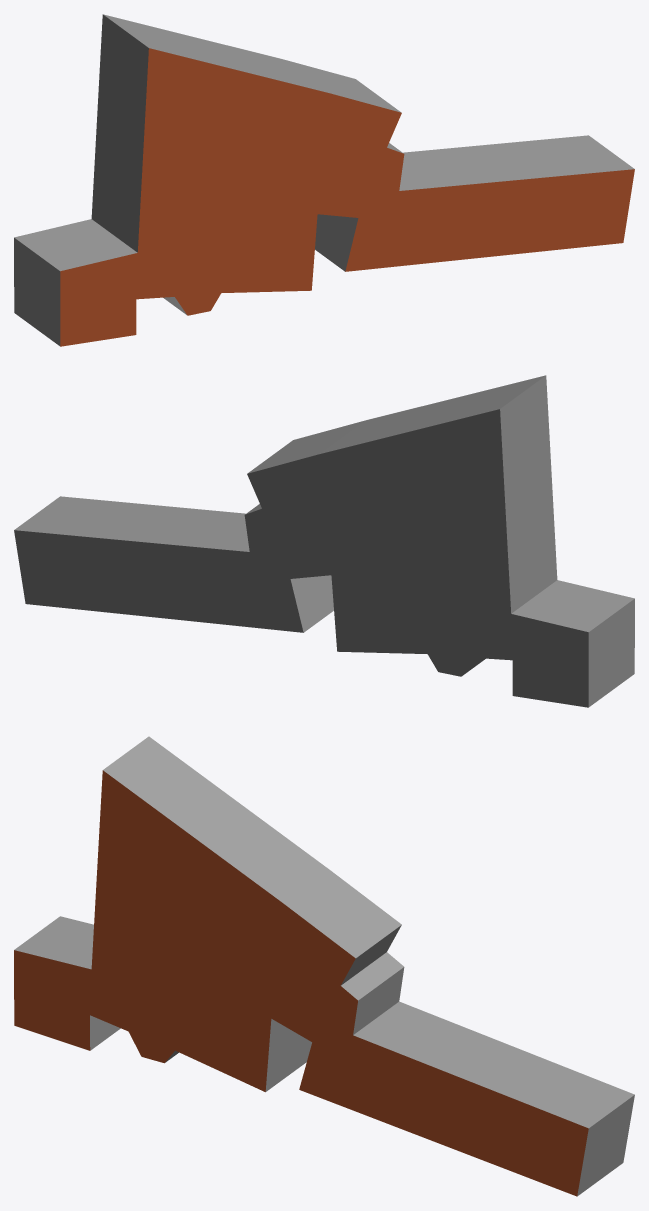
File: construction_5250_assumed_A_Casa_h6m.obj
3 views of the same model, one above another, from view 1: azimuth 30°, elevation 25°; view 2: azimuth 150°, elevation 25°; view 3: azimuth 330°, elevation 25° (orthographic).
Parts seen in each view (by area): view 1: construction_5250_assumed_A_Casa; view 2: construction_5250_assumed_A_Casa; view 3: construction_5250_assumed_A_Casa.
Boxes of the visible parts, box(x1,y1,x2,y2) form: construction_5250_assumed_A_Casa: box(14, 14, 634, 346); construction_5250_assumed_A_Casa: box(14, 375, 634, 707); construction_5250_assumed_A_Casa: box(14, 736, 634, 1196).
Size of the model in its own units: 43.1 by 22.26 by 6.
